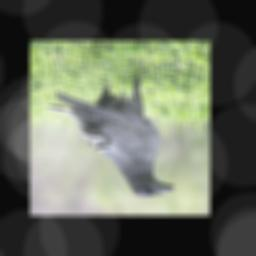Crow: (46, 70, 175, 197)
